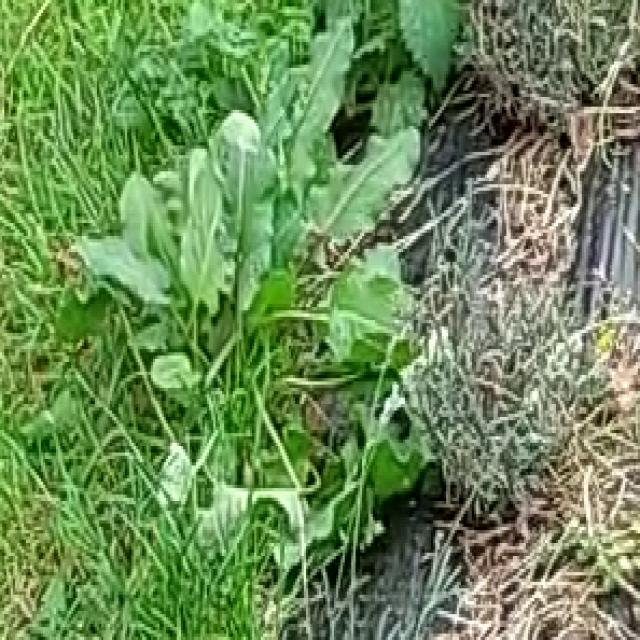organic waste: (97, 71, 403, 527)
